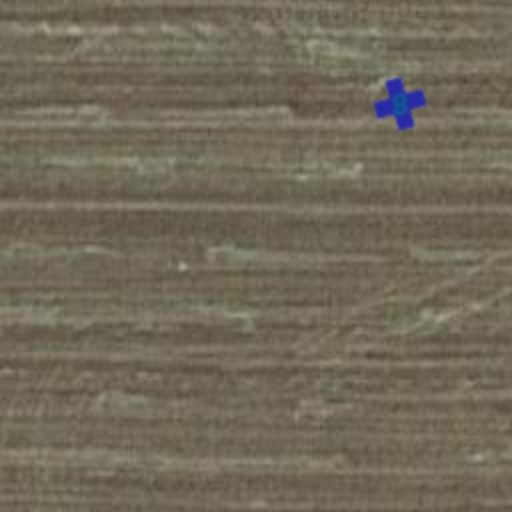cross: (368, 72, 432, 136)
